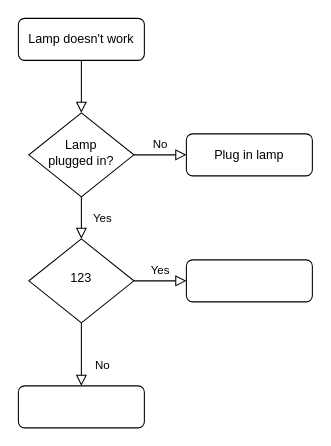
The diagram is 331 pixels wide and 446 high, and some of its shapes have lost their labels. The shapes that lost their labels are listed below. From the top down, each one's centre as x and y in pixels, then its label:
At [248,280]: "Replace Bulb".
At [80,406]: "Repair Lamp".
